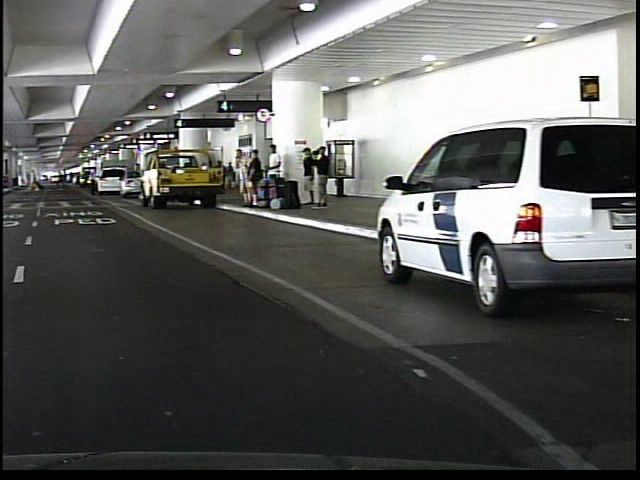person: (228, 143, 247, 205), (310, 143, 327, 208), (20, 161, 40, 195), (83, 165, 95, 198)
